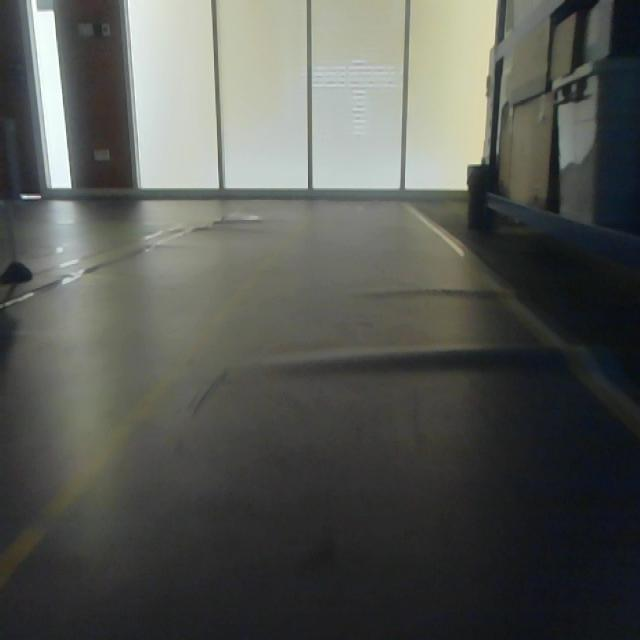left_lane: (0, 220, 305, 592)
right_lane: (411, 205, 640, 446)
